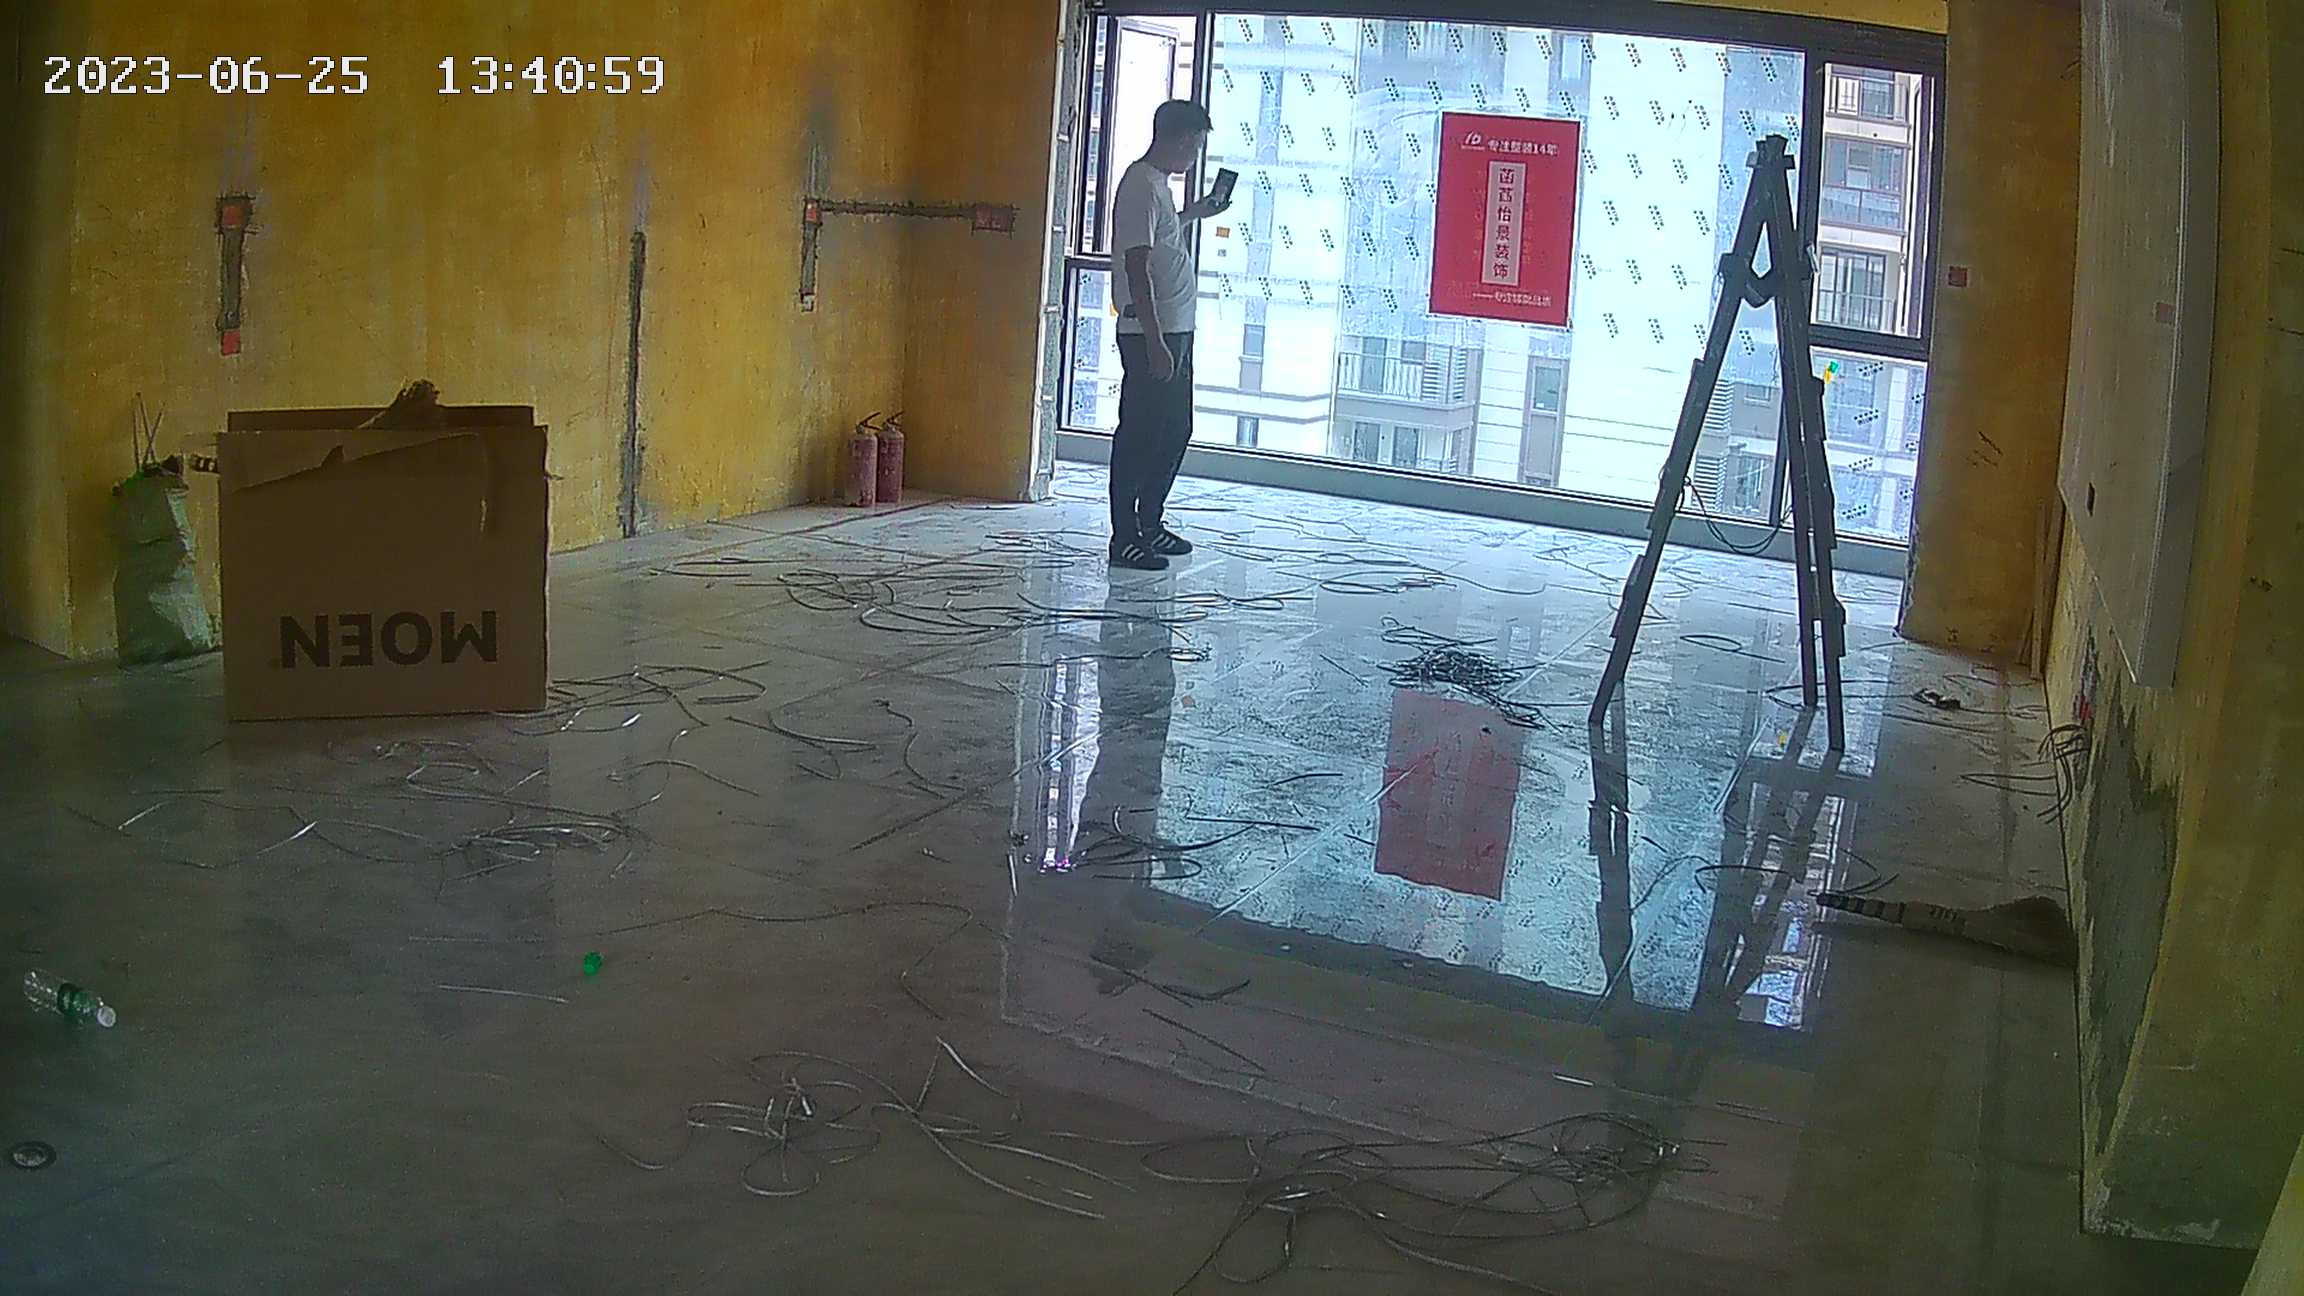people: (1089, 94, 1237, 576)
window: (1098, 1, 1927, 568)
